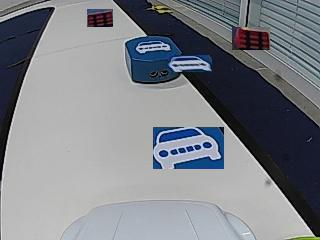safety: (135, 40, 171, 53)
